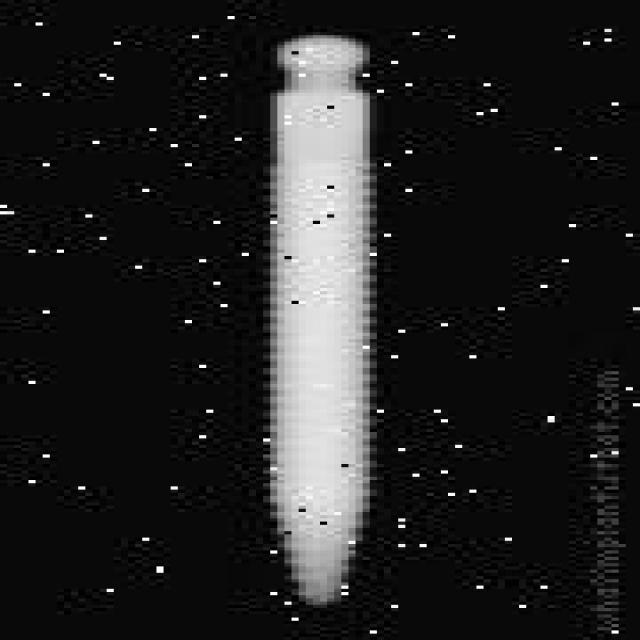Leone Implant: (263, 35, 384, 611)
